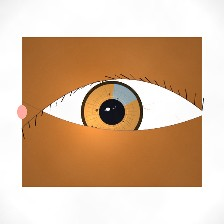pinguecula_lesion: (24, 103, 69, 139)
